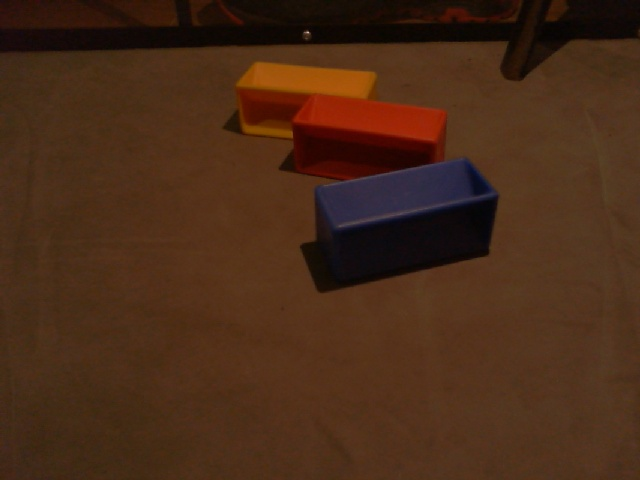BlueSample: (313, 157, 502, 286)
RedSample: (290, 91, 450, 186)
YellowSample: (231, 56, 375, 139)
